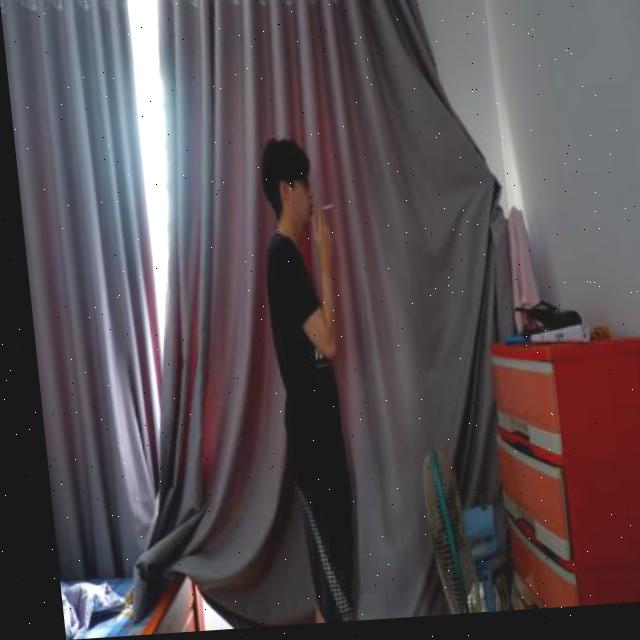cigarette: (316, 208, 329, 216)
